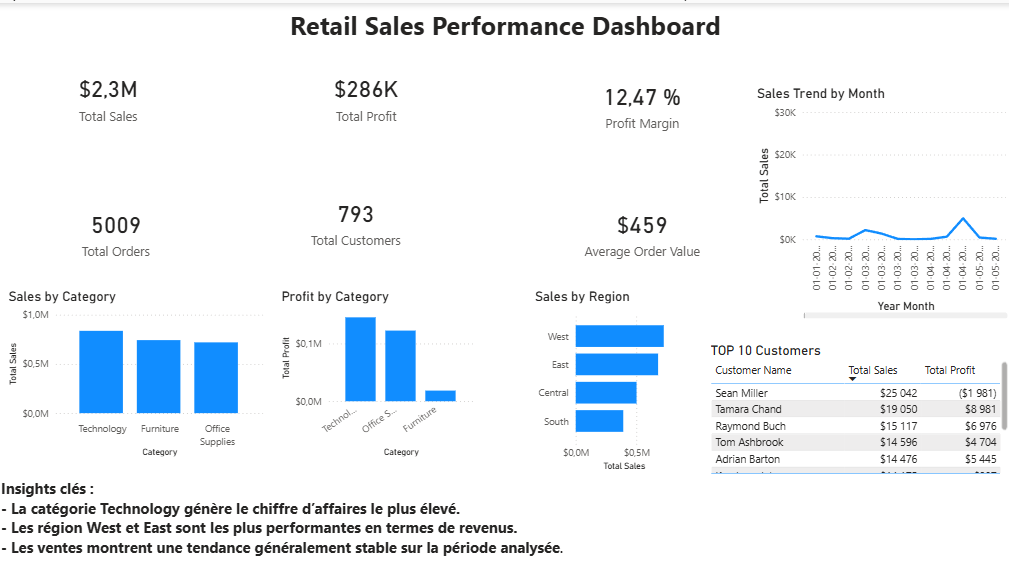

Layout of this report page (visuals, bound fields, positions):
{"tool":"powerbi","page":{"name":"Executive summary","canvas":[1280,720],"ordinal":0},"visuals":[{"type":"card","fields":{"Values":["Orders.Total Sales"]},"box":[0,0,279.7,234.3],"z":0},{"type":"card","fields":{"Values":["Orders.Total Profit"]},"box":[325,0,279.7,234.3],"z":1000},{"type":"card","fields":{"Values":["Orders.Total Orders"]},"box":[9.4,217.3,279.7,141.7],"z":2000},{"type":"card","fields":{"Values":["Orders.Total Customers"]},"box":[311.8,189,279.7,170.1],"z":3000},{"type":"card","fields":{"Values":["Orders.Profit Margin"]},"box":[672.8,0,279.7,253.2],"z":4000},{"type":"card","fields":{"Values":["Orders.Average Order Value"]},"box":[672.8,217.3,279.7,141.7],"z":5000},{"type":"clusteredColumnChart","title":"Sales by Category","fields":{"Y":["Orders.Total Sales"],"Category":["Orders.Category"]},"box":[9.4,359.1,330.7,217.3],"z":6000},{"type":"clusteredColumnChart","title":"Profit by  Category","fields":{"Y":["Orders.Total Profit"],"Category":["Orders.Category"]},"box":[353.4,359.1,251.3,217.3],"z":7000},{"type":"clusteredBarChart","title":"Sales by Region","fields":{"Category":["Orders.Region"],"Y":["Orders.Total Sales"]},"box":[672.8,359.1,200.3,234.3],"z":8000},{"type":"lineChart","title":"Sales Trend by Month","fields":{"Category":["Orders.Year Month"],"Y":["Orders.Total Sales"]},"box":[952.4,103.9,326.9,298.6],"z":9000},{"type":"tableEx","title":"TOP 10 Customers","fields":{"Values":["Orders.Customer Name","Orders.Total Sales","Orders.Total Profit"]},"box":[893.9,427.1,385.5,190.9],"z":10000},{"type":"textbox","box":[190.9,0,899.5,66.1],"z":11000},{"type":"textbox","box":[0,593.4,1279.4,126.6],"z":12000}]}

Visuals, with their boxes in screenshot pixels (x1, y1, x2, y2), scaled from the page's 1280x720 canvas onto the 1009x571 screenshot:
card - Orders.Total Sales: 0, 0, 220, 186
card - Orders.Total Profit: 256, 0, 477, 186
card - Orders.Total Orders: 7, 172, 228, 285
card - Orders.Total Customers: 246, 150, 466, 285
card - Orders.Profit Margin: 530, 0, 751, 201
card - Orders.Average Order Value: 530, 172, 751, 285
"Sales by Category" clusteredColumnChart: 7, 285, 268, 457
"Profit by  Category" clusteredColumnChart: 279, 285, 477, 457
"Sales by Region" clusteredBarChart: 530, 285, 688, 471
"Sales Trend by Month" lineChart: 751, 82, 1008, 319
"TOP 10 Customers" tableEx: 705, 339, 1008, 490
textbox: 150, 0, 860, 52
textbox: 0, 471, 1008, 570
